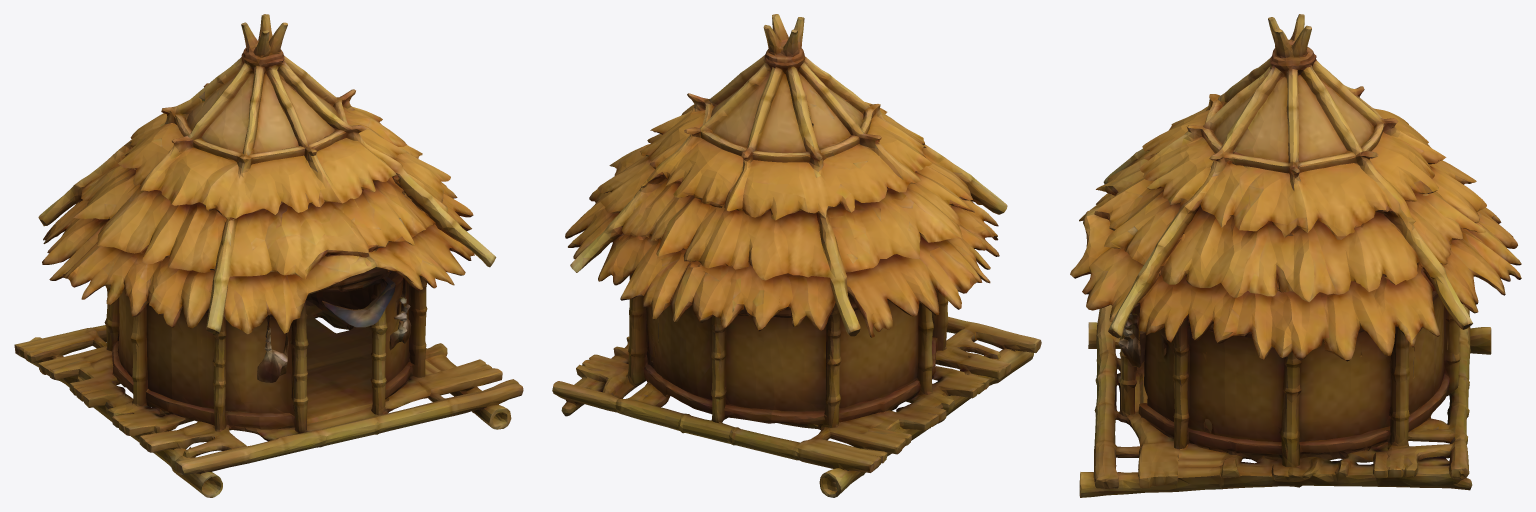
Rendered from nanmanTent.glb.
The picture shows the model from 3 angles, left to right: view 1: azimuth 30°, elevation 25°; view 2: azimuth 150°, elevation 25°; view 3: azimuth 270°, elevation 25°; orthographic projection. The views are drawn at different scales.
Visible parts, largest first — view 1: geometry_0; view 2: geometry_0; view 3: geometry_0.
Part boxes in pixels (left/top/right/bottom): geometry_0: left=14, top=14, right=523, bottom=497; geometry_0: left=552, top=14, right=1041, bottom=497; geometry_0: left=1070, top=14, right=1521, bottom=497.
Bounding box in the file's own units: 0.9983 × 0.9241 × 0.9354.
Materials: 1 (1 with a texture image).
